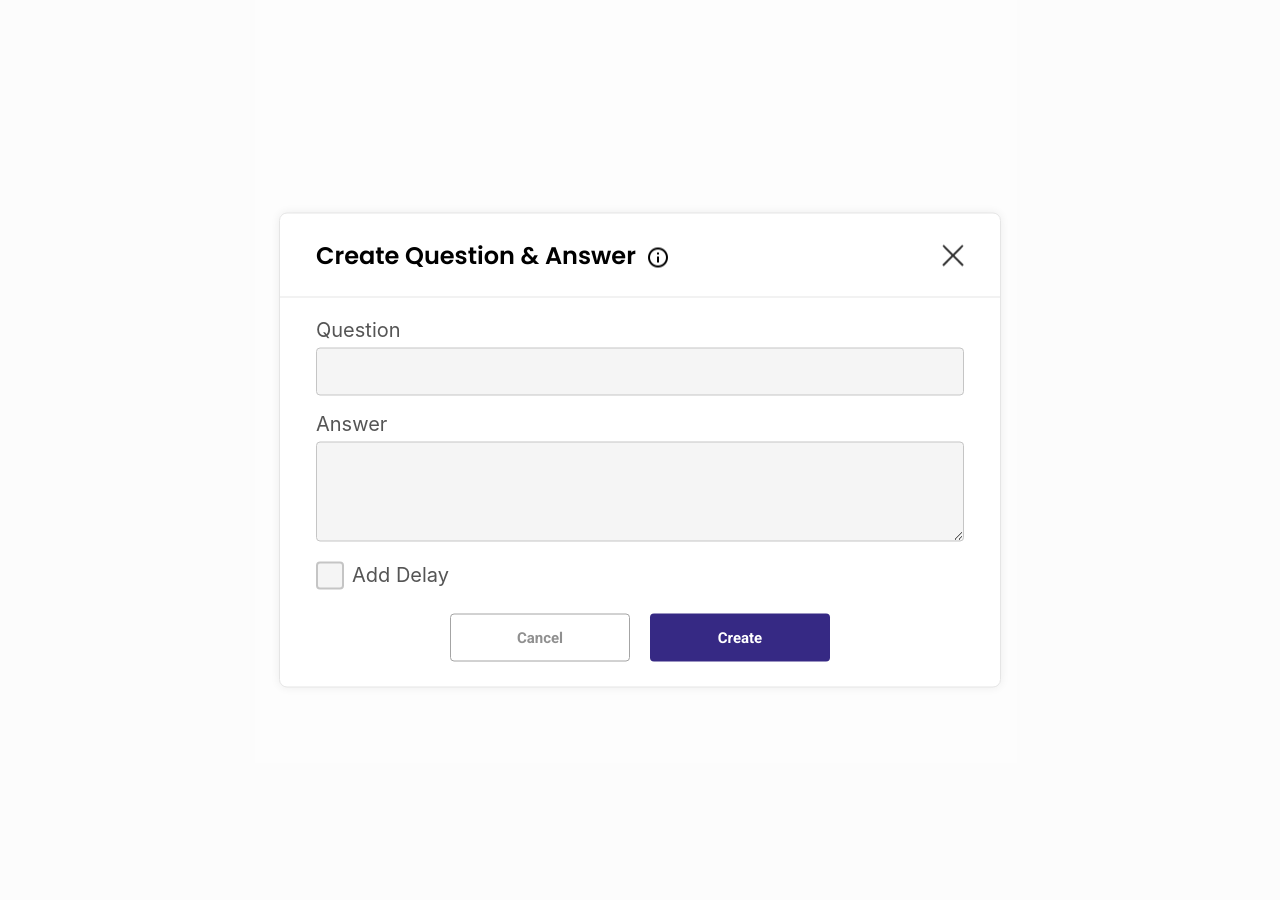
Scenario: Add Modal › Empty question answer shows error
The width and height of the screenshot is (1280, 900).
Click the button "Create": (740, 638) [650,614,830,662]
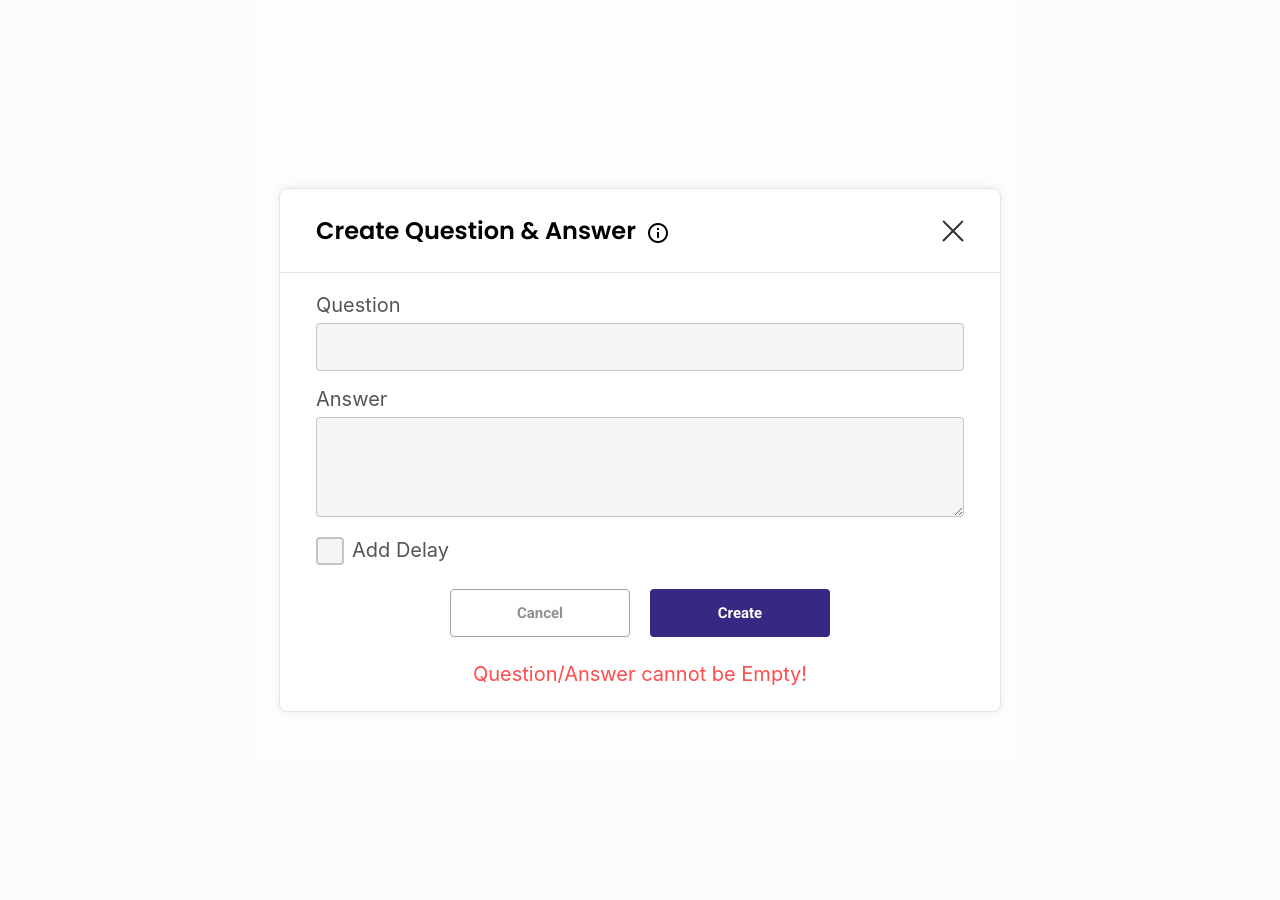
Expected: the text "Question/Answer cannot be Empty!" is shown, [473,662,807,686]
